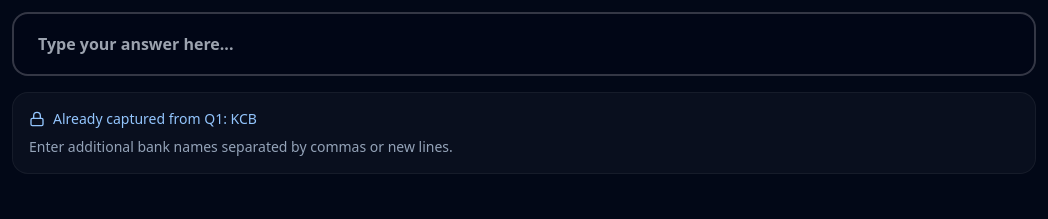
Scenario: QuestionRenderer bank recognition UX › keeps Q2 recognition behavior intact and marks the Q1 bank as already captured
Expected: the text "Already captured from Q1: KCB" is shown, [29,109,257,128]
Expected: the text "Recognized in this answer:" is not shown
Type "KCB, BK" into the field at (524, 44), box [12,12,1036,76]
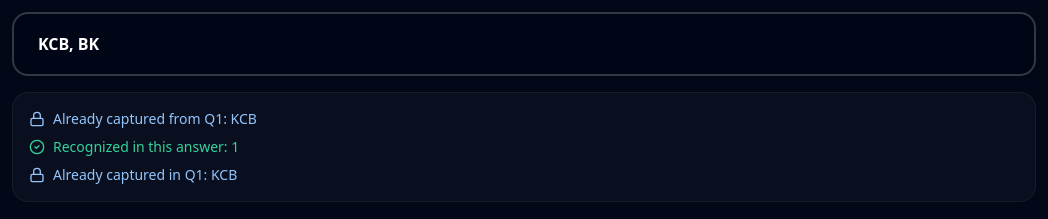
Now the text "Recognized in this answer: 1" is shown, box [29,137,239,156]
Now the text "Already captured in Q1: KCB" is shown, box [29,165,237,184]
